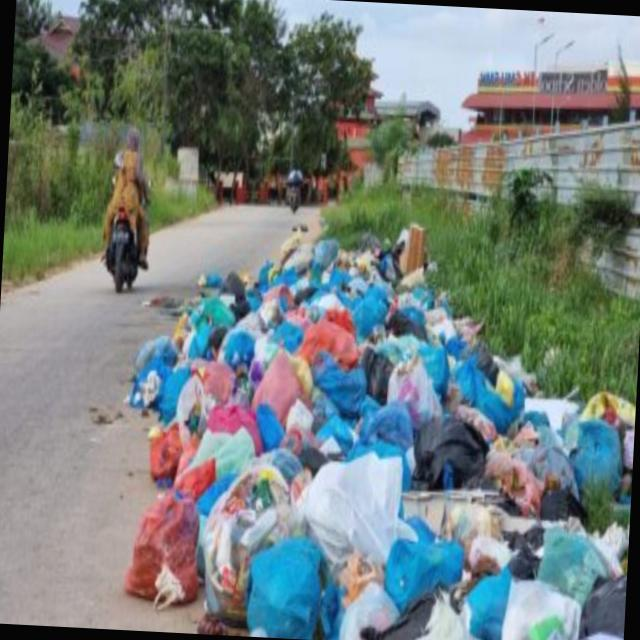garbage: (117, 221, 640, 640)
